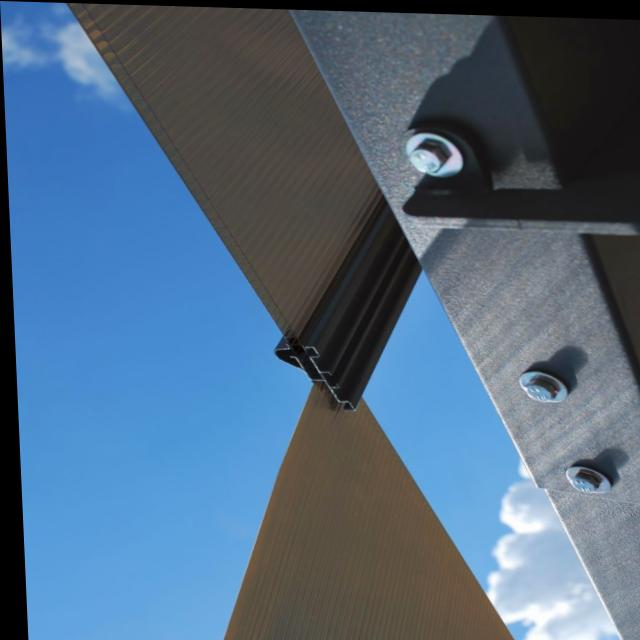Regular bolt: (408, 140, 448, 171), (523, 374, 553, 399), (565, 468, 596, 489)
